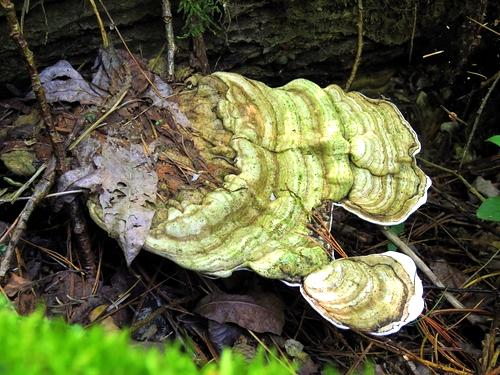Ganoderma - Fruit Body: (73, 68, 432, 248), (306, 252, 428, 337)
